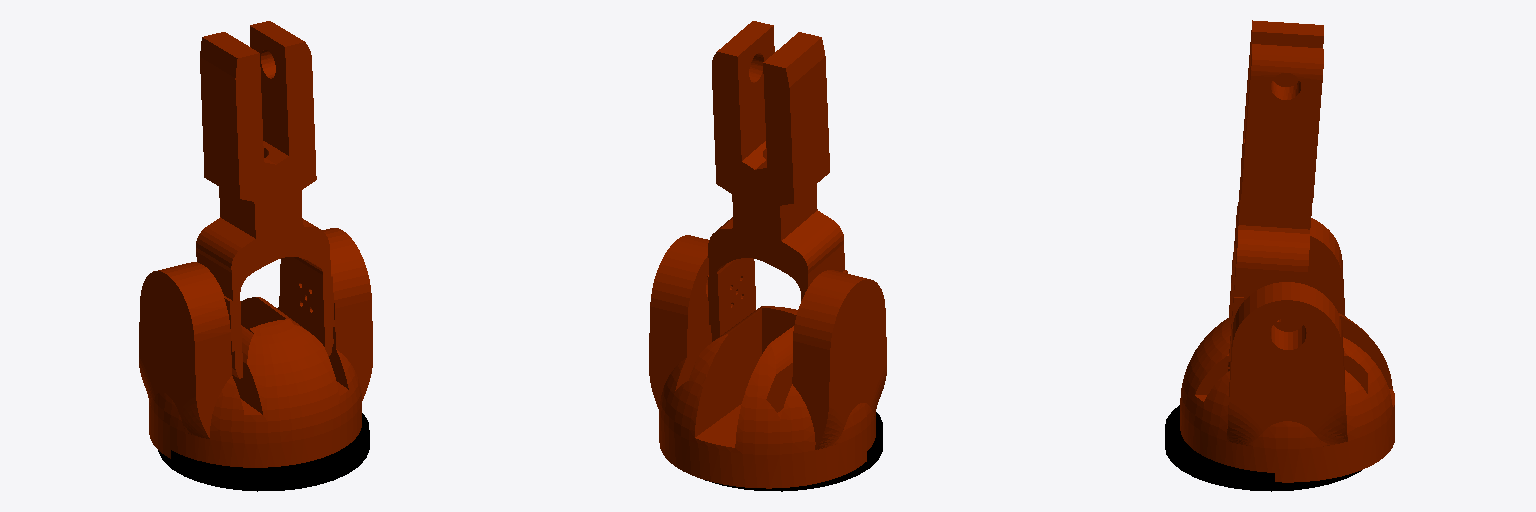
URDF robot description (braccio):
<?xml version="1.0"?>
<robot name="braccio">
     <gazebo>
     <plugin name="gazebo_ros_control" filename="libgazebo_ros_control.so">
       <robotNamespace>/robot</robotNamespace>
       <robotSimType>gazebo_ros_control/DefaultRobotHWSim</robotSimType>
       <controlPeriod>0.001</controlPeriod>
       <legacyModeNS>true</legacyModeNS>
     </plugin>
   </gazebo>
    <!-- Color de materiales -->
    <material name="orange">
        <color rgba="0.57 0.17 0.0 1" />
    </material>
    <material name="white">
        <color rgba="0.8 0.8 0.8 1.0" />
    </material>
    <material name="black">
        <color rgba="0 0 0 0.50" />
    </material>

    <!--Mascaras para partes del robot-->
    <link name="base_link">
        <visual>
            <geometry>
                <cylinder length="0.01" radius=".053" />
            </geometry>
            <material name="black" />
            <origin rpy="0 0 0" xyz="0 0 0" />
        </visual>
        <inertial>
            <origin rpy="0 0 0" xyz="0 0 0" />
            <mass value="2" />
            <inertia ixx="0.015" ixy="0" ixz="0" iyy="0.00666666666667" iyz="0" izz="0.0216666666667" />
        </inertial>
    </link>

    <link name="braccio_base_link">
        <visual>
            <geometry>
                <mesh filename="package://BRT_Description/meshes/braccio_base.stl" scale="0.01 0.01 0.01" />
            </geometry>
            <material name="orange" />
             <origin rpy="0 0 0" xyz="0 0.004 0" />
        </visual>
        <collision>
            <geometry>
                <mesh filename="package://BRT_Description/meshes/braccio_base.stl" scale="0.01 0.01 0.01" />
            </geometry>
             <origin rpy="0 0 0" xyz="0 0.004 0" />
        </collision>
        <inertial>
            <origin rpy="0 0 0" xyz="0 0.004 0" />
            <mass value="2" />
            <inertia ixx="0.015" ixy="0" ixz="0" iyy="0.00666666666667" iyz="0" izz="0.0216666666667" />
        </inertial>
    </link>

    <link name="shoulder_link">
        <visual>
            <geometry>
                <mesh filename="package://BRT_Description/meshes/braccio_shoulder.stl" scale="0.01 0.01 0.01" />
            </geometry>
            <material name="orange" />
            <origin rpy="0 0 0" xyz="-0.0045 0.0055 -0.026" />
        </visual>
        <collision>
            <geometry>
                <mesh filename="package://BRT_Description/meshes/braccio_shoulder.stl" scale="0.01 0.01 0.01" />
            </geometry>
            <origin rpy="0 0 0" xyz="-0.0045 0.018 -0.017" />
        </collision>
        <inertial>
            <origin rpy="0 0 0" xyz="-0.0045 0.018 -0.017" />
            <mass value="0.1" />
            <inertia ixx="0.000348958333333" ixy="0" ixz="0" iyy="0.000348958333333" iyz="0" izz="3.125e-05" />
        </inertial>
    </link>

     <!--<link name="elbow_link">
        <visual>
            <geometry>
                <mesh filename="package://BRT_Description/meshes/braccio_elbow.stl" scale="0.01 0.01 0.01" />
            </geometry>
            <material name="orange" />
            <origin rpy="0 0 0" xyz="-0.0045 0.005 -0.025" />
        </visual>
        <collision>
            <geometry>
                <mesh filename="package://BRT_Description/meshes/braccio_elbow.stl" scale="0.01 0.01 0.01" />
            </geometry>
            <origin rpy="0 0 0" xyz="-0.0045 0.005 -0.025" />
        </collision>
        <inertial>
            <origin rpy="0 0 0" xyz="-0.0045 0.005 -0.025" />
            <mass value="0.1" />
            <inertia ixx="0.000348958333333" ixy="0" ixz="0" iyy="0.000348958333333" iyz="0" izz="3.125e-05" />
        </inertial>
    </link>

    <link name="wrist_pitch_link">
        <visual>
            <geometry>
                <mesh filename="package://BRT_Description/meshes/braccio_wrist_pitch.stl" scale="0.01 0.01 0.01" />
            </geometry>
            <material name="orange" />
            <origin rpy="0 0 0" xyz="0.003 -0.0004 -0.024" />
        </visual>
        <collision>
            <geometry>
                 <mesh filename="package://BRT_Description/meshes/braccio_wrist_pitch.stl" scale="0.01 0.01 0.01" />
            </geometry>
            <origin rpy="0 0 0" xyz="0.003 -0.0004 -0.024" />
        </collision>
        <inertial>
            <origin rpy="0 0 0" xyz="0.003 -0.0004 -0.024" />
            <mass value="0.1" />
            <inertia ixx="0.000348958333333" ixy="0" ixz="0" iyy="0.000348958333333" iyz="0" izz="3.125e-05" />
        </inertial>
    </link>

    <link name="wrist_roll_link">
        <visual>
            <geometry>
                <mesh filename="package://BRT_Description/meshes/braccio_wrist_roll.stl" scale="0.01 0.01 0.01" />
            </geometry>
            <material name="white" />
            <origin rpy="0 0 0" xyz="0.006 0 0.0" />
        </visual>
        <collision>
            <geometry>
                <mesh filename="package://BRT_Description/meshes/braccio_wrist_roll.stl" scale="0.01 0.01 0.01" />
            </geometry>
            <origin rpy="0 0 0" xyz="0.006 0 0.0" />
        </collision>
        <inertial>
            <origin rpy="0 0 0" xyz="0.006 0 0" />
            <mass value="0.1" />
            <inertia ixx="0.000348958333333" ixy="0" ixz="0" iyy="0.000348958333333" iyz="0" izz="3.125e-05" />
        </inertial>
    </link>

    <link name="left_gripper_link">
        <visual>
            <geometry>
                <mesh filename="package://BRT_Description/meshes/braccio_left_gripper.stl" scale="0.001 0.001 0.001" />
            </geometry>
            <material name="white" />
            <origin rpy="0 1.5708 0" xyz="0 -0.012 0" />
        </visual>
        <collision>
            <origin rpy="0 1.5708 0" xyz="0 -0.012 0" />
            <geometry>
                 <mesh filename="package://BRT_Description/meshes/braccio_left_gripper.stl" scale="0.001 0.001 0.001" />
            </geometry>
        </collision>
        <inertial>
            <mass value="0.1" />
            <inertia ixx="0.000348958333333" ixy="0" ixz="0" iyy="0.000348958333333" iyz="0" izz="3.125e-05" />
        </inertial>
    </link>

    <link name="right_gripper_link">
        <visual>
            <geometry>
                <mesh filename="package://BRT_Description/meshes/braccio_right_gripper.stl" scale="0.001 0.001 0.001" />
            </geometry>
            <material name="white" />
            <origin rpy="0 1.5708 0" xyz="0 -0.012 0.010" />
        </visual>
        <collision>
            <origin rpy="0 1.5708 0" xyz="0 -0.012 0.010" />
            <geometry>
                 <mesh filename="package://BRT_Description/meshes/braccio_right_gripper.stl" scale="0.001 0.001 0.001" />
            </geometry>
        </collision>
        <inertial>
            <mass value="0.1" />
            <inertia ixx="0.000348958333333" ixy="0" ixz="0" iyy="0.000348958333333" iyz="0" izz="3.125e-05" />
        </inertial>
    </link>-->

    <!--Articulaciones del robot-->

    <joint name="base_joint" type="revolute">
        <axis xyz="0 0 -1" />
        <limit effort="1000.0" lower="0.0" upper="3.1416" velocity="1.0" />
        <origin rpy="0 0 0" xyz="0 0 0" />
        <parent link="base_link" />
        <child link="braccio_base_link" />
    </joint>
    <transmission name="base_trasmision">
        <type>transmission_interface/SimpleTransmission</type>
        <joint name="base_joint">
            <hardwareInterface>
                hardware_interface/EffortJointInterface
            </hardwareInterface>
        </joint>
        <actuator name="base_motor">
        <mechanicalReduction>1</mechanicalReduction>
        </actuator>
    </transmission>

    <joint name="shoulder_joint" type="revolute">
        <axis xyz="1 0 0" />
        <limit effort="1000.0" lower="0.2" upper="2.8" velocity="1.0" />
        <origin rpy="-1.5708 0 0" xyz="0 -0.002 0.072" />
        <parent link="braccio_base_link" />
        <child link="shoulder_link" />
    </joint>
    <transmission name="shoulder_trasmision">
        <type>transmission_interface/SimpleTransmission</type>
        <joint name="shoulder_joint">
            <hardwareInterface>
                hardware_interface/EffortJointInterface
	    </hardwareInterface>
        </joint>
        <actuator name="shoulder_motor">
        <mechanicalReduction>1</mechanicalReduction>
        </actuator>
    </transmission>

    <!--<joint name="elbow_joint" type="revolute">
        <axis xyz="1 0 0" />
        <limit effort="1000.0" lower="0.0" upper="3.1416" velocity="1.0" />
        <origin rpy="-1.5708 0 0" xyz="0 0 0.125" />
        <parent link="shoulder_link" />
        <child link="elbow_link" />
    </joint>
    <transmission name="elbow_trasmision">
        <type>transmission_interface/SimpleTransmission</type>
        <joint name="elbow_joint">
            <hardwareInterface>
                hardware_interface/PositionJointInterface
            </hardwareInterface>
        </joint>
        <actuator name="elbow_motor">
        <mechanicalReduction>1</mechanicalReduction>
        </actuator>
    </transmission>

    <joint name="wrist_pitch_joint" type="revolute">
        <axis xyz="1 0 0" />
        <limit effort="1000.0" lower="0.0" upper="3.1416" velocity="1.0" />
        <origin rpy="-1.5708 0 0" xyz="0 0 0.125" />
        <parent link="elbow_link" />
        <child link="wrist_pitch_link" />
    </joint>
    <transmission name="wrist_pitch_trasmision">
        <type>transmission_interface/SimpleTransmission</type>
        <joint name="wrist_pitch_joint">
            <hardwareInterface>
                hardware_interface/PositionJointInterface
            </hardwareInterface>
        </joint>
        <actuator name="wrist_pitch_motor">
        <mechanicalReduction>1</mechanicalReduction>
        </actuator>
    </transmission>

    <joint name="wrist_roll_joint" type="revolute">
        <axis xyz="0 0 -1" />
        <limit effort="1000.0" lower="0.0" upper="3.1416" velocity="1.0" />
        <origin rpy="0 0 1.5708" xyz="0 0.0 0.06" />
        <parent link="wrist_pitch_link" />
        <child link="wrist_roll_link" />
    </joint>
    <transmission name="wrist_roll_trasmision">
        <type>transmission_interface/SimpleTransmission</type>
        <joint name="wrist_roll_joint">
            <hardwareInterface>
                hardware_interface/PositionJointInterface
            </hardwareInterface>
        </joint>
        <actuator name="wrist_roll_motor">
        <mechanicalReduction>1</mechanicalReduction>
        </actuator>
    </transmission>

    <joint name="gripper_joint" type="revolute">
        <axis xyz="0 -1 0" />
        <limit effort="1000.0" lower="0.95" upper="1.54" velocity="1.0" />
        <origin rpy="0 0 0" xyz="0.010 0 0.03" />
        <parent link="wrist_roll_link" />
        <child link="right_gripper_link" />
    </joint>
    <transmission name="gripper_trasmision">
        <type>transmission_interface/SimpleTransmission</type>
        <joint name="gripper_joint">
            <hardwareInterface>
                hardware_interface/PositionJointInterface
            </hardwareInterface>
        </joint>
        <actuator name="gripper_motor">
        <mechanicalReduction>1</mechanicalReduction>
        </actuator>
    </transmission>
    

    <joint name="sub_gripper_joint" type="revolute">
        <axis xyz="0 1 0" />
        <mimic joint="gripper_joint" />
        <limit effort="1000.0" lower="0.95" upper="1.54" velocity="1.0" />
        <origin rpy="0 3.1416 0" xyz="-0.010 0 0.03" />
        <parent link="wrist_roll_link" />
        <child link="left_gripper_link" />
    </joint>
    <transmission name="sub_gripper_trasmision">
        <type>transmission_interface/SimpleTransmission</type>
        <joint name="sub_gripper_joint">
            <hardwareInterface>
                hardware_interface/PositionJointInterface
            </hardwareInterface>
        </joint>
        <actuator name="sub_gripper_motor">
        <mechanicalReduction>1</mechanicalReduction>
        </actuator>
    </transmission> -->
    
     <link name="world"/>
    <joint name="world_joint" type="fixed">
        <parent link="world"/>
        <child link="base_link"/>
        <origin rpy="0.0 0.0 0.0" xyz="0.0 0.0 0.0"/>
    </joint>
    
    <gazebo reference="base_link">
        <mu1>1</mu1>
        <mu2>1</mu2>
        <selfCollide>true</selfCollide>
        <material>Gazebo/Orange</material>
    </gazebo>

  <gazebo reference="braccio_base_link">
    <material>Gazebo/Orange</material>
    <mu1>1</mu1>
    <mu2>1</mu2>
    <selfCollide>true</selfCollide>
  </gazebo>
  <gazebo reference="shoulder_link">
    <material>Gazebo/Orange</material>
    <mu1>1</mu1>
    <mu2>1</mu2>
    <selfCollide>true</selfCollide>
  </gazebo>
  <!--<gazebo reference="elbow_link">
    <material>Gazebo/Orange</material>
    <mu1>1</mu1>
    <mu2>1</mu2>
    <selfCollide>true</selfCollide>
  </gazebo>
  <gazebo reference="wrist_pitch_link">
    <material>Gazebo/Orange</material>
    <mu1>1</mu1>
    <mu2>1</mu2>
    <selfCollide>true</selfCollide>
  </gazebo>
  <gazebo reference="wrist_roll_link">
    <material>Gazebo/Orange</material>
    <mu1>1</mu1>
    <mu2>1</mu2>
    <selfCollide>true</selfCollide>
  </gazebo>
  <gazebo reference="right_gripper_link">
    <material>Gazebo/White</material>
    <selfCollide>true</selfCollide>
    <kp>100000.0</kp>
    <kd>1.0</kd>
    <mu1>500.0</mu1>
    <mu2>200.0</mu2>
    <minDepth>0.002</minDepth>
    <maxVel>0</maxVel>
  </gazebo>
  <gazebo reference="left_gripper_link">
    <material>Gazebo/White</material>
    <selfCollide>true</selfCollide>
    <kp>100000.0</kp>
    <kd>1.0</kd>
    <mu1>500.0</mu1>
    <mu2>200.0</mu2>
    <minDepth>0.002</minDepth>
    <maxVel>0</maxVel>
  </gazebo>
  <gazebo reference="gripper_joint">
        <implicitSpringDamper>1</implicitSpringDamper>
    </gazebo>
  <gazebo reference="sub_gripper_joint">
     <implicitSpringDamper>1</implicitSpringDamper>
  </gazebo>-->
</robot>

--- Facts derived from the render (not from the file) ---
3 views of the same robot in one strip: view 1: azimuth 30°, elevation 25°; view 2: azimuth 150°, elevation 25°; view 3: azimuth 270°, elevation 25° (orthographic).
Robot: braccio — 4 links, 3 joints (2 revolute, 1 fixed); root link world; default pose: all joints at 0 but 1 set to mid-range because 0 is outside their limits (shoulder_joint = 1.5).
Links seen in each view (by area): view 1: braccio_base_link, shoulder_link, base_link; view 2: braccio_base_link, shoulder_link, base_link; view 3: braccio_base_link, shoulder_link, base_link.
Link boxes in pixels (x1=…): braccio_base_link: x1=139, y1=228, x2=372, y2=467; shoulder_link: x1=196, y1=21, x2=334, y2=378; base_link: x1=158, y1=413, x2=369, y2=491; braccio_base_link: x1=649, y1=235, x2=886, y2=488; shoulder_link: x1=707, y1=21, x2=847, y2=341; base_link: x1=705, y1=412, x2=882, y2=491; braccio_base_link: x1=1180, y1=218, x2=1394, y2=482; shoulder_link: x1=1228, y1=20, x2=1323, y2=371; base_link: x1=1165, y1=405, x2=1361, y2=491.
Bounding box of the posed robot: 0.1065 × 0.1142 × 0.2227 m (x, y, z).
2 mesh visuals loaded from 2 distinct referenced files (2 binary STL).
